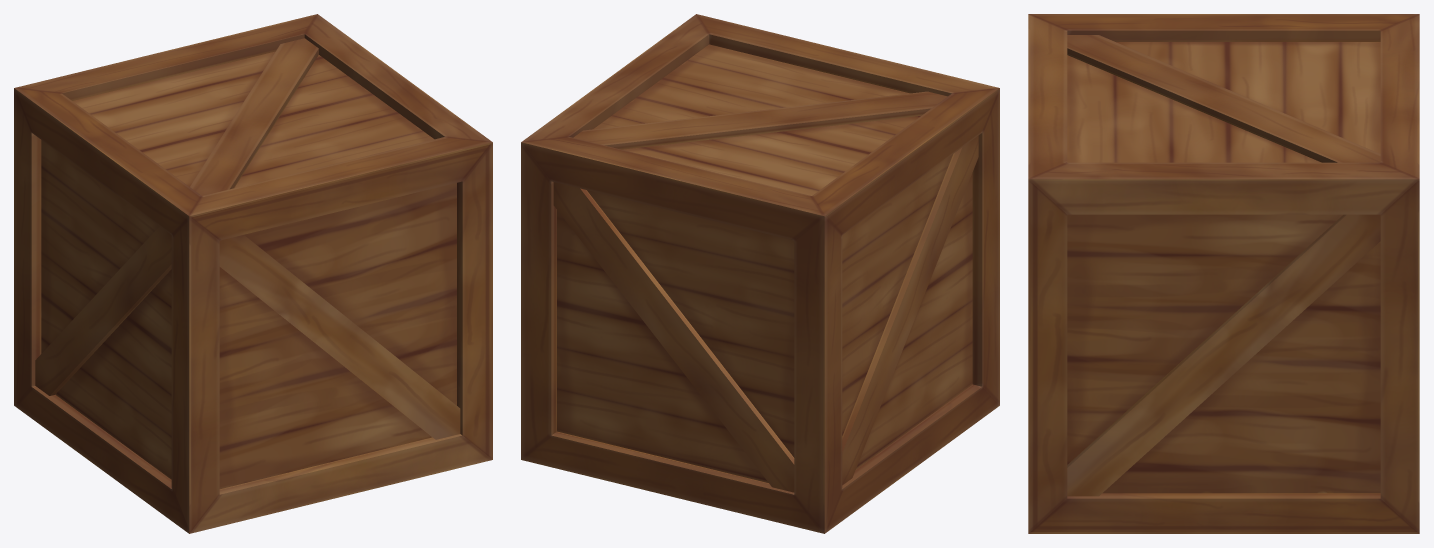
File: Crate1.fbx
3 renders of one model, left to right at view 1: azimuth 30°, elevation 25°; view 2: azimuth 150°, elevation 25°; view 3: azimuth 270°, elevation 25°, orthographic. The views are drawn at different scales.
Visible parts, largest first — view 1: Crate1; view 2: Crate1; view 3: Crate1.
Boxes of the visible parts, box(x1,y1,x2,y2) form: Crate1: box(14, 14, 492, 533); Crate1: box(521, 14, 999, 533); Crate1: box(1028, 14, 1419, 533).
Bounding box in the file's own units: 91.54 × 91.54 × 91.54.
